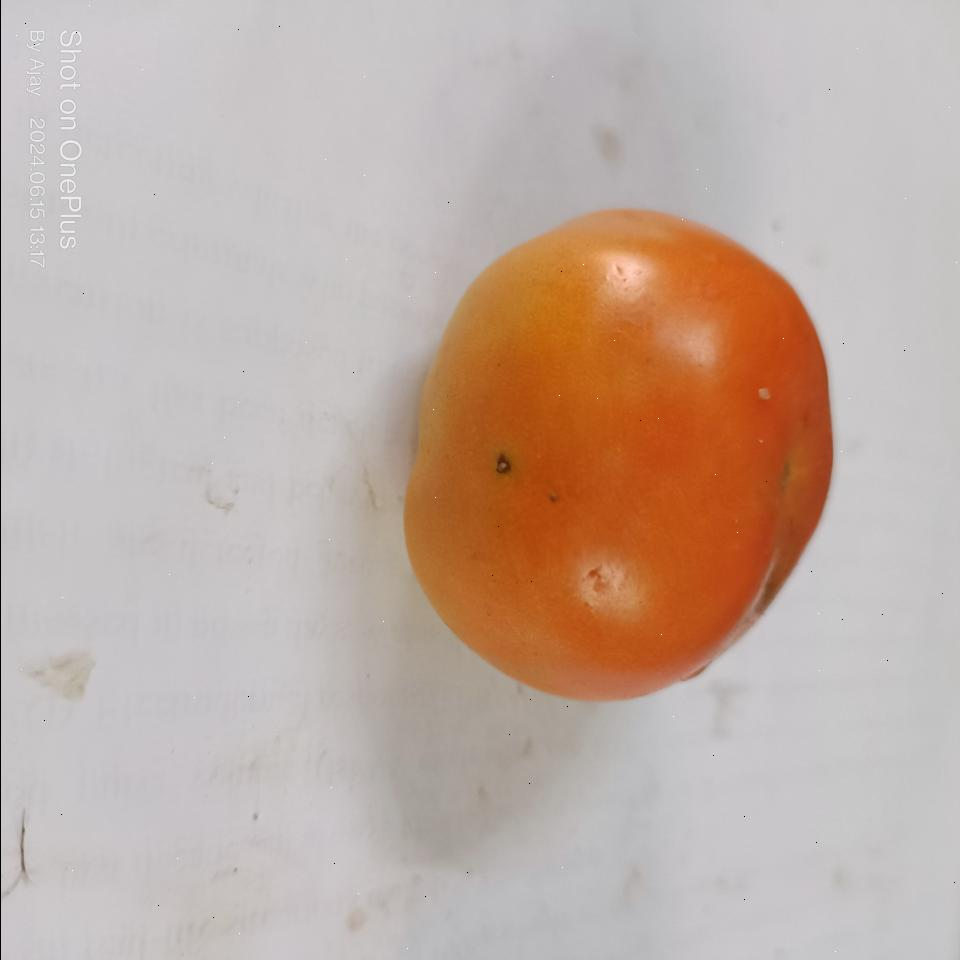Bacterial_Spot: (493, 448, 518, 485)
